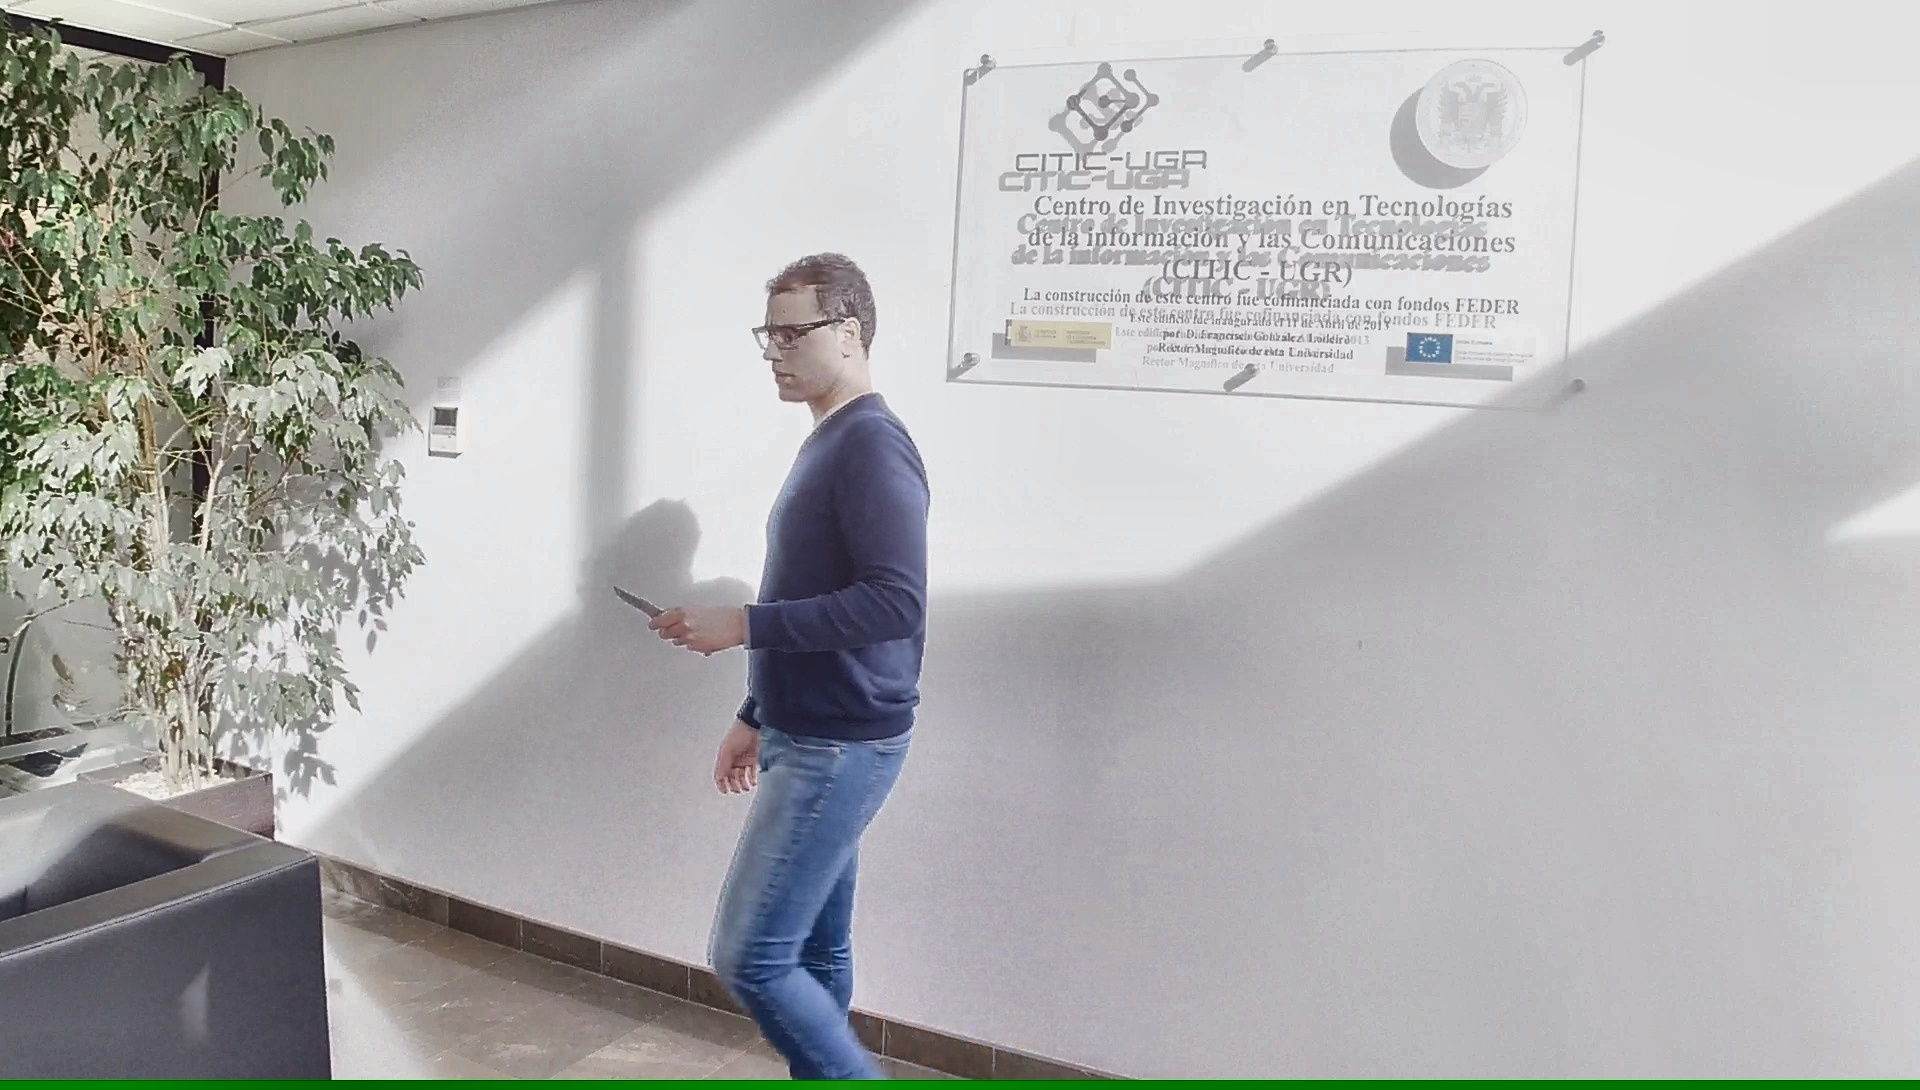knife: (605, 580, 717, 662)
